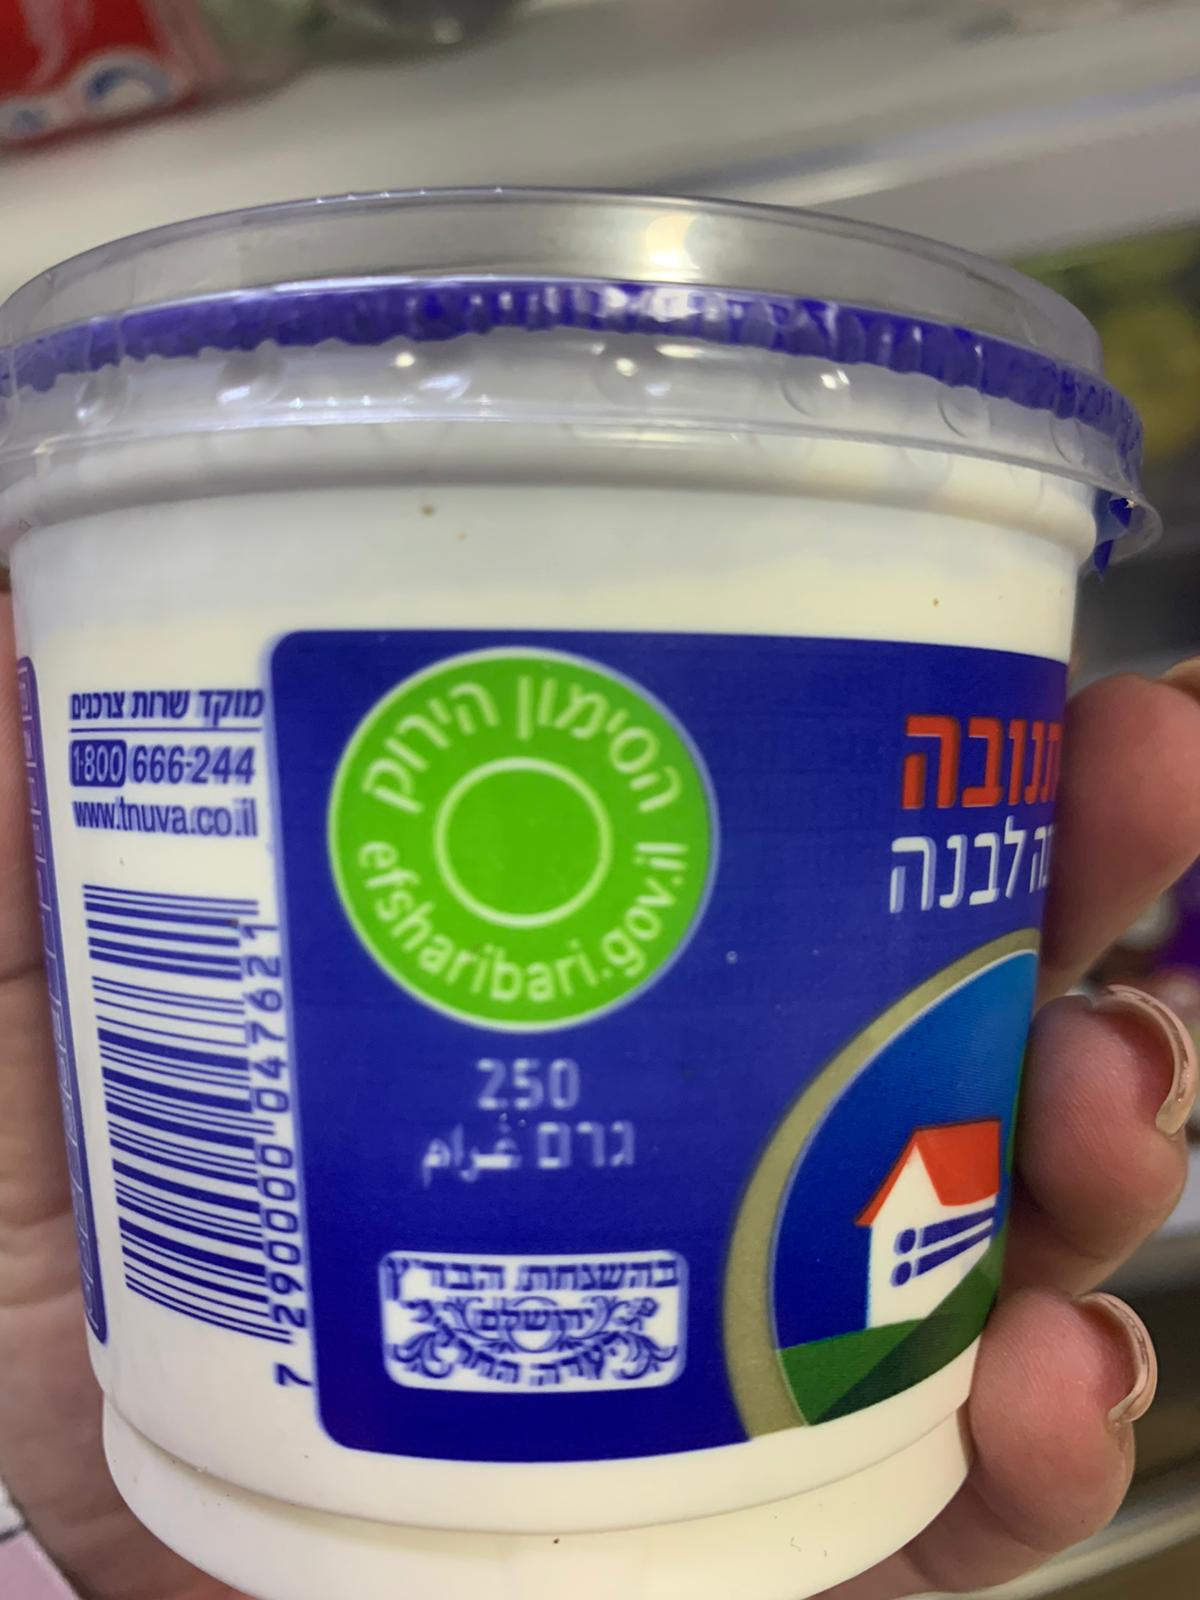green: (321, 643, 726, 1041)
